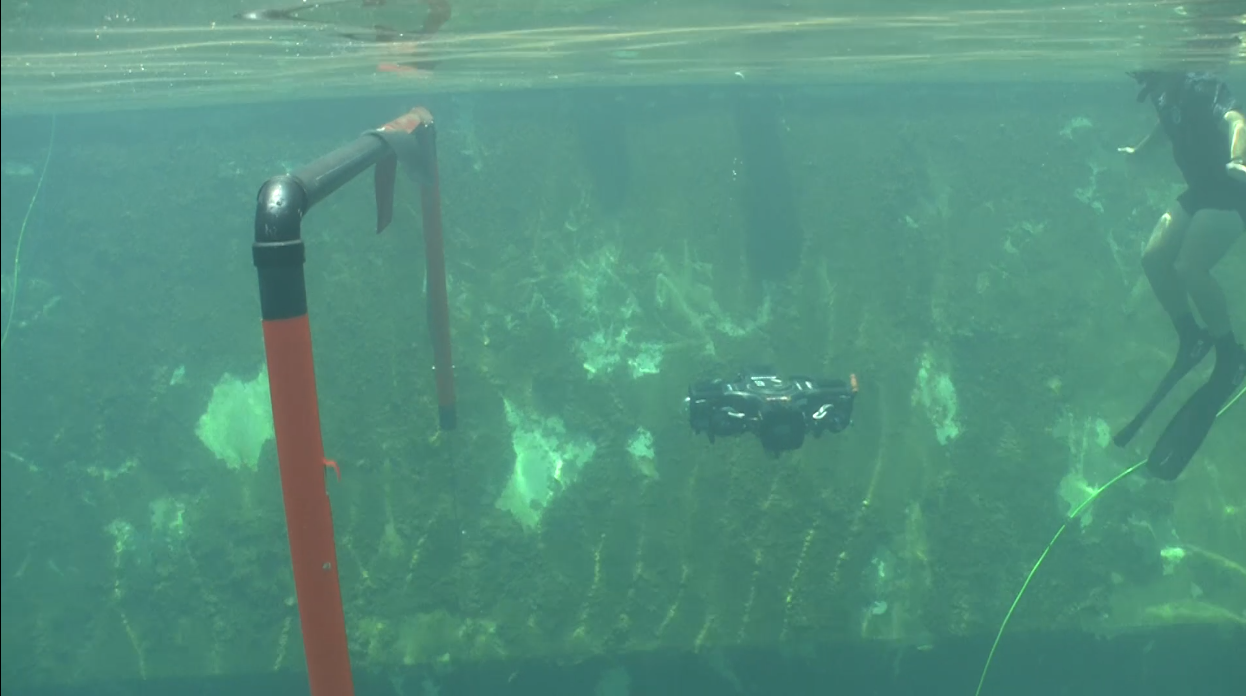gate: (226, 99, 479, 695)
